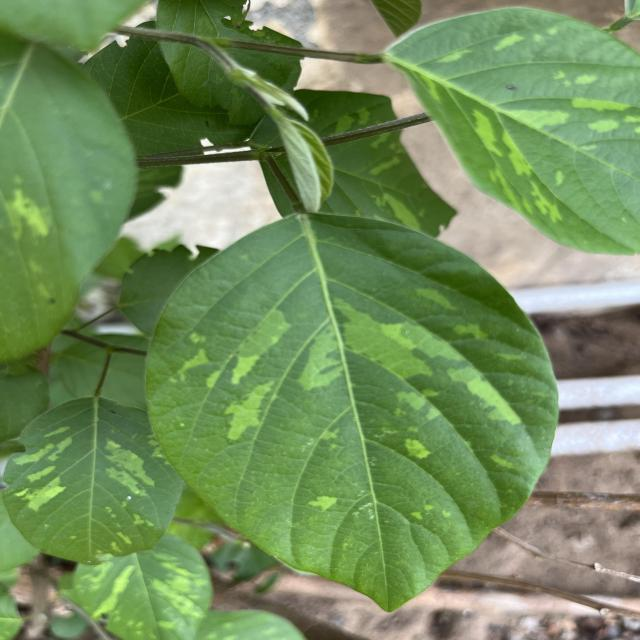Desmodium gangeticum: (136, 205, 564, 614)
